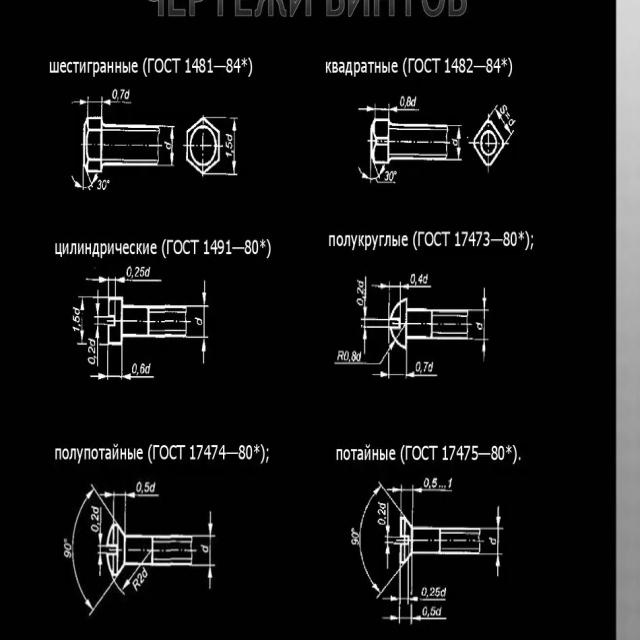marking_line: (70, 483, 106, 616), (358, 478, 396, 601), (375, 566, 449, 628), (382, 567, 447, 605), (192, 509, 217, 590), (388, 487, 454, 516), (187, 280, 209, 364), (103, 492, 161, 523), (373, 353, 439, 379), (338, 340, 395, 369), (78, 296, 108, 348), (481, 506, 503, 576), (470, 287, 490, 364), (359, 276, 388, 322), (71, 93, 133, 114), (90, 504, 106, 577), (119, 348, 155, 380), (223, 115, 240, 177), (113, 276, 162, 295), (356, 164, 398, 185), (371, 281, 433, 295), (360, 325, 388, 355), (358, 104, 420, 117), (195, 509, 217, 541), (494, 104, 515, 137), (100, 95, 132, 116), (192, 562, 216, 590), (160, 125, 175, 167), (188, 279, 208, 310), (187, 335, 208, 364), (93, 322, 106, 367), (91, 347, 109, 379), (469, 286, 489, 314), (449, 123, 463, 162), (70, 174, 97, 194), (84, 275, 112, 294), (469, 338, 491, 360), (91, 291, 107, 320), (120, 571, 140, 594), (70, 95, 92, 115)
numeric: (265, 237, 272, 260), (474, 231, 483, 247), (448, 444, 456, 461), (245, 443, 253, 460), (451, 58, 459, 74), (468, 231, 476, 247), (210, 240, 218, 255), (161, 239, 167, 259), (497, 446, 505, 461), (460, 231, 468, 246), (226, 57, 233, 74), (192, 58, 199, 75), (444, 57, 451, 74), (466, 57, 473, 74), (483, 230, 490, 247), (196, 444, 203, 461), (204, 444, 211, 461), (252, 239, 259, 255), (494, 58, 501, 74), (456, 446, 463, 462), (463, 446, 471, 460), (471, 445, 478, 461), (491, 444, 498, 460), (510, 231, 517, 247), (239, 445, 246, 461), (376, 500, 387, 510), (204, 240, 211, 255), (217, 240, 224, 255), (226, 239, 232, 256), (184, 58, 190, 75), (207, 57, 213, 74), (234, 56, 240, 73), (460, 57, 466, 74), (486, 56, 492, 73), (211, 444, 217, 461), (220, 445, 226, 462), (245, 240, 251, 256), (455, 231, 461, 247), (503, 231, 509, 247), (200, 58, 206, 73), (443, 444, 448, 462), (131, 362, 138, 374), (434, 586, 441, 598), (91, 522, 98, 534), (90, 512, 99, 521), (406, 445, 411, 461), (376, 507, 386, 515), (190, 445, 195, 461), (144, 267, 151, 278), (431, 476, 438, 487), (139, 362, 145, 374), (87, 357, 96, 365), (73, 314, 81, 323), (225, 141, 233, 150), (399, 96, 405, 108), (423, 475, 429, 487), (377, 518, 386, 526), (430, 605, 436, 617), (416, 360, 421, 374), (102, 180, 108, 191), (126, 266, 132, 277), (134, 266, 140, 277), (112, 89, 118, 100), (421, 586, 427, 597), (410, 273, 416, 284), (344, 350, 350, 361), (423, 361, 429, 372), (389, 170, 395, 181), (138, 573, 144, 584), (384, 169, 389, 182), (136, 481, 141, 494), (88, 346, 96, 354), (351, 538, 358, 547), (351, 531, 360, 538), (406, 95, 411, 107), (448, 477, 453, 489), (144, 481, 149, 493), (225, 150, 232, 158), (357, 299, 364, 307), (97, 179, 102, 190), (140, 266, 145, 277), (119, 89, 124, 100), (418, 274, 423, 285), (351, 350, 356, 361), (423, 606, 428, 616), (429, 586, 434, 596), (505, 111, 510, 120), (72, 326, 79, 332), (357, 288, 363, 295)
special_symbol: (247, 57, 253, 79), (508, 57, 514, 78), (402, 57, 408, 78), (524, 230, 530, 251), (260, 443, 266, 464), (143, 59, 148, 81), (413, 230, 418, 251), (148, 443, 152, 465), (240, 57, 247, 68), (506, 444, 513, 455), (260, 239, 267, 248), (501, 58, 507, 67), (518, 231, 524, 240), (254, 445, 260, 454), (394, 169, 398, 176), (107, 179, 111, 184)
